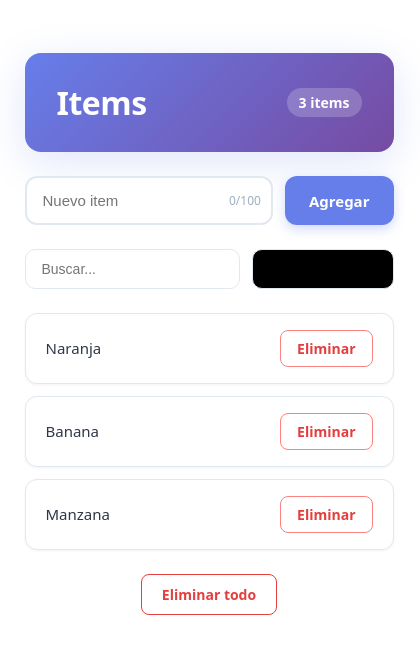
Componente App › Interacción del Formulario y Validaciones › debería mostrar un error al intentar agregar un input vacío
Click the button "Agregar": [339, 201] box [285, 176, 394, 225]
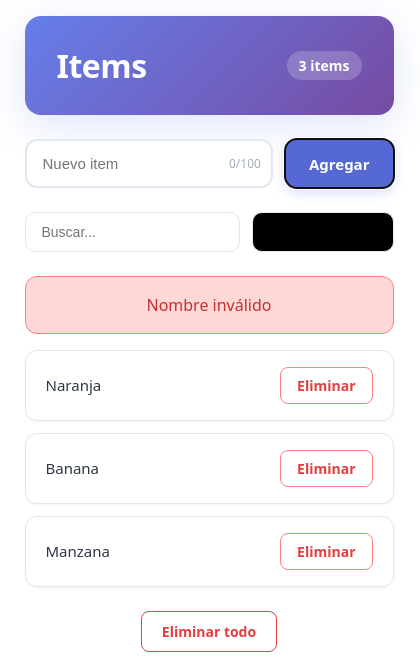
Now the text "Nombre inválido" is shown, box [24, 276, 394, 334]
